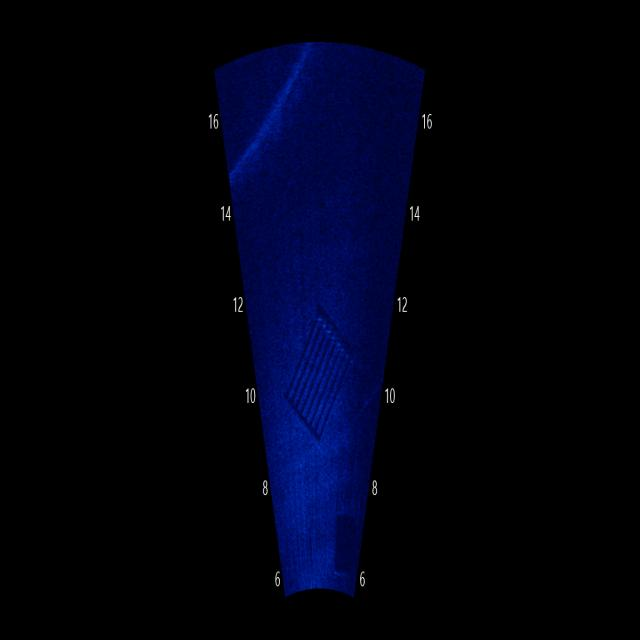square: (276, 295, 360, 463)
